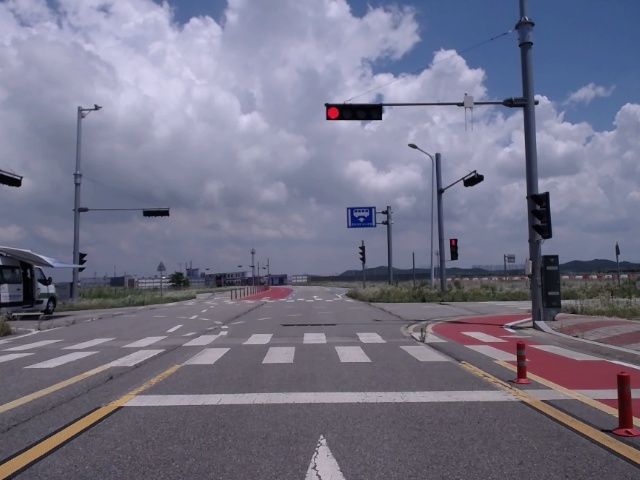red_4: (326, 106, 382, 120)
